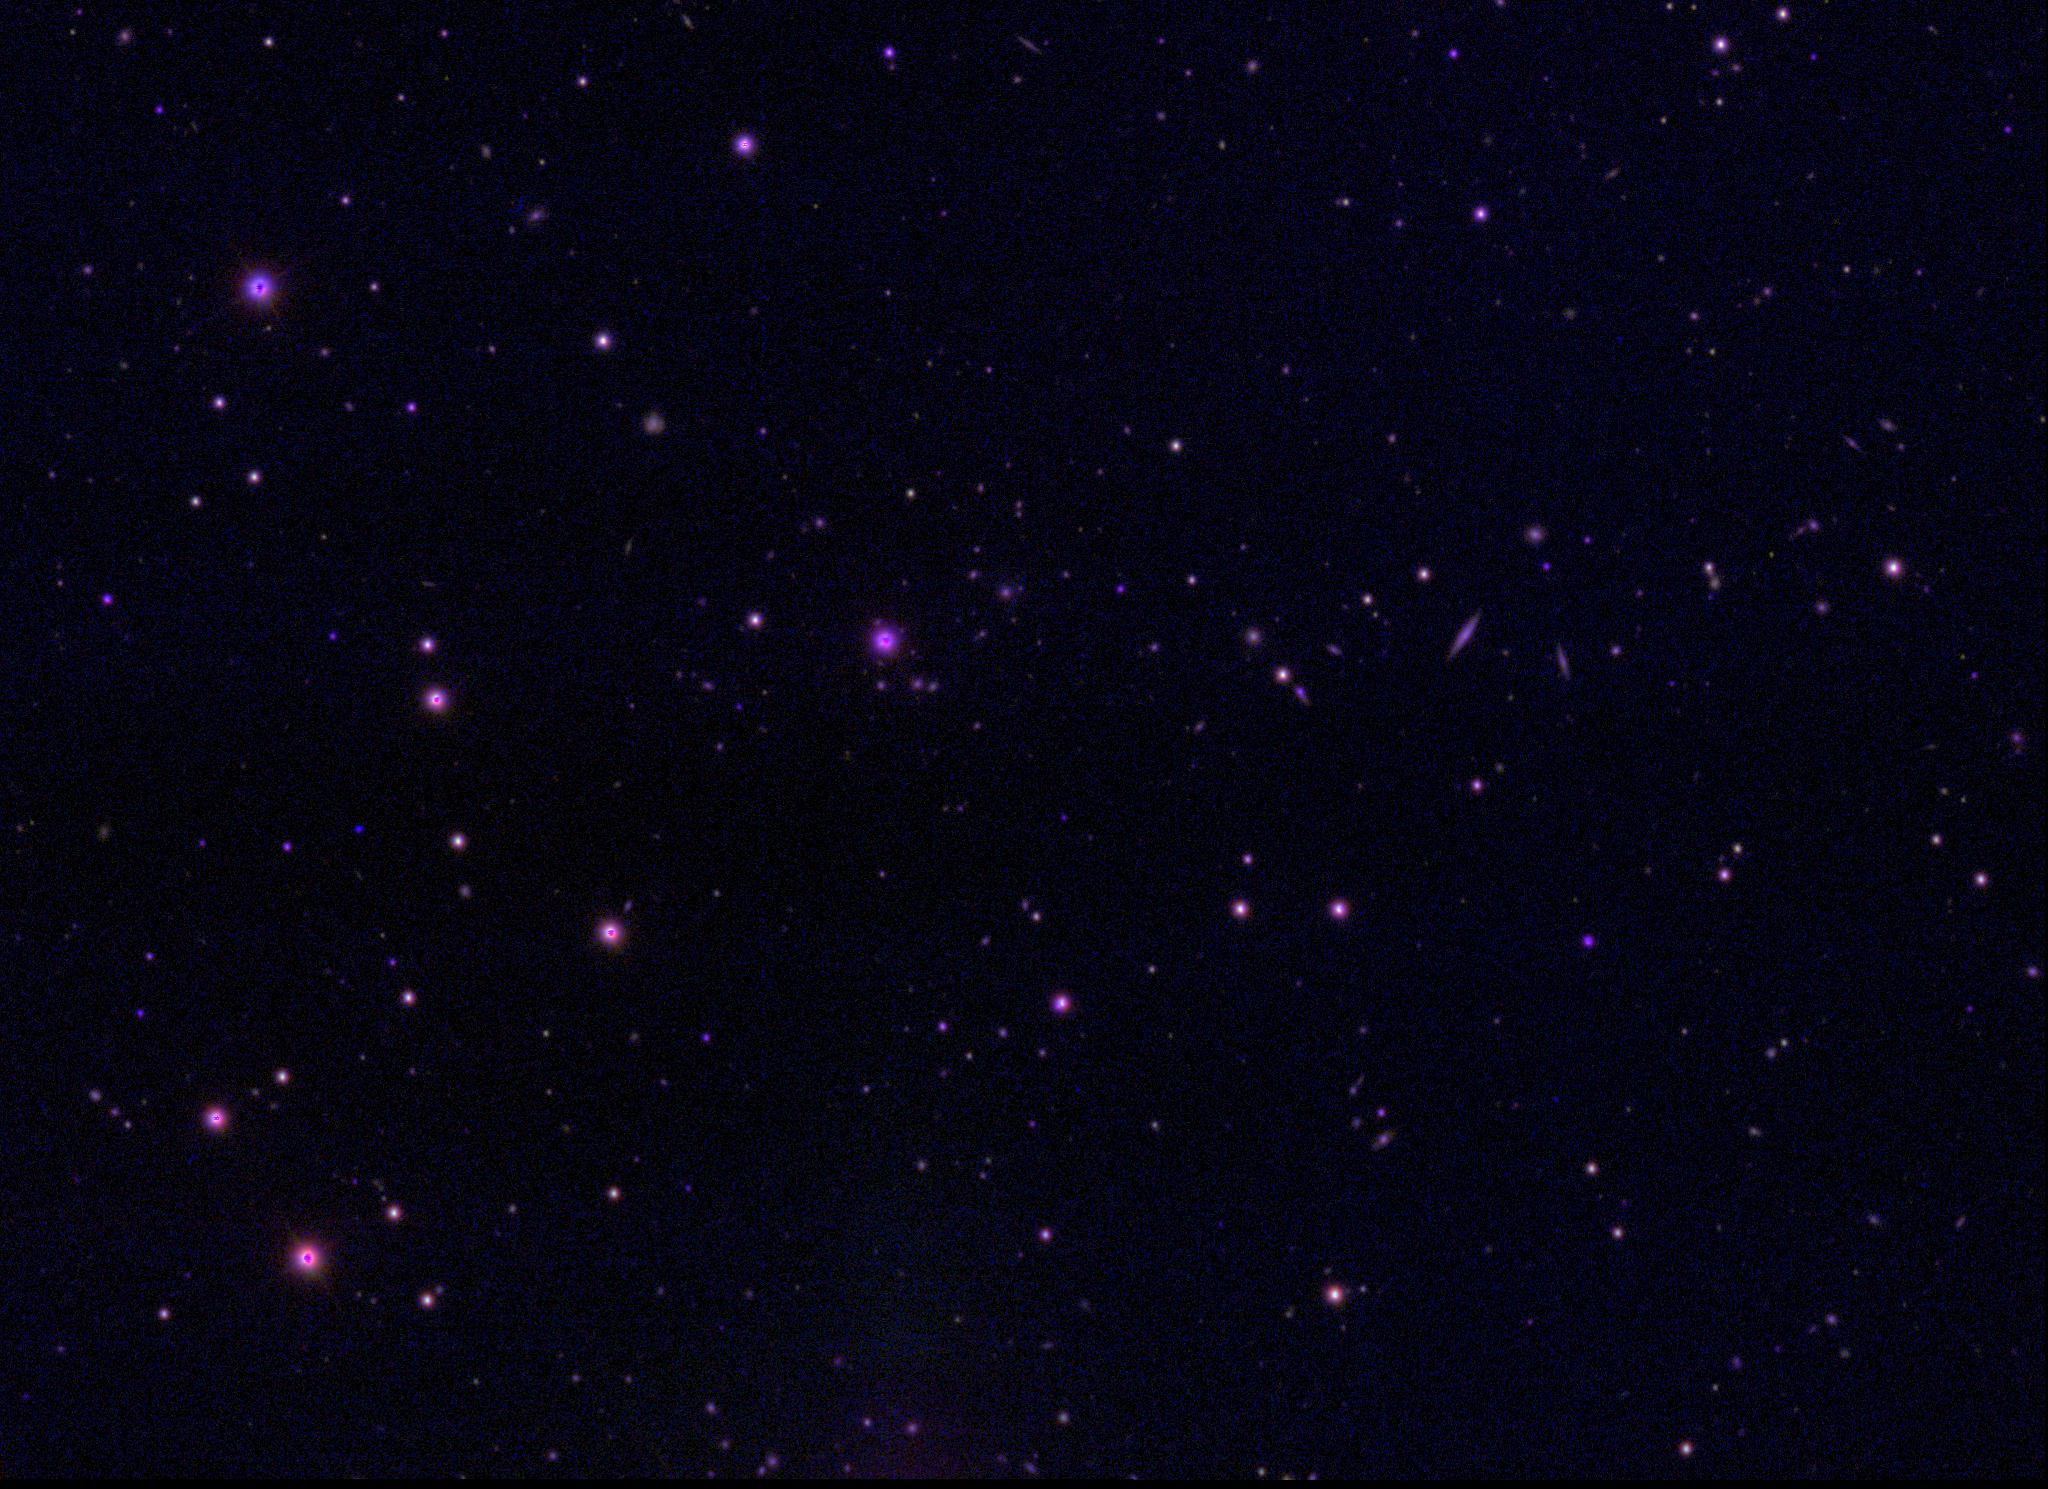L: (351, 824, 366, 838)
